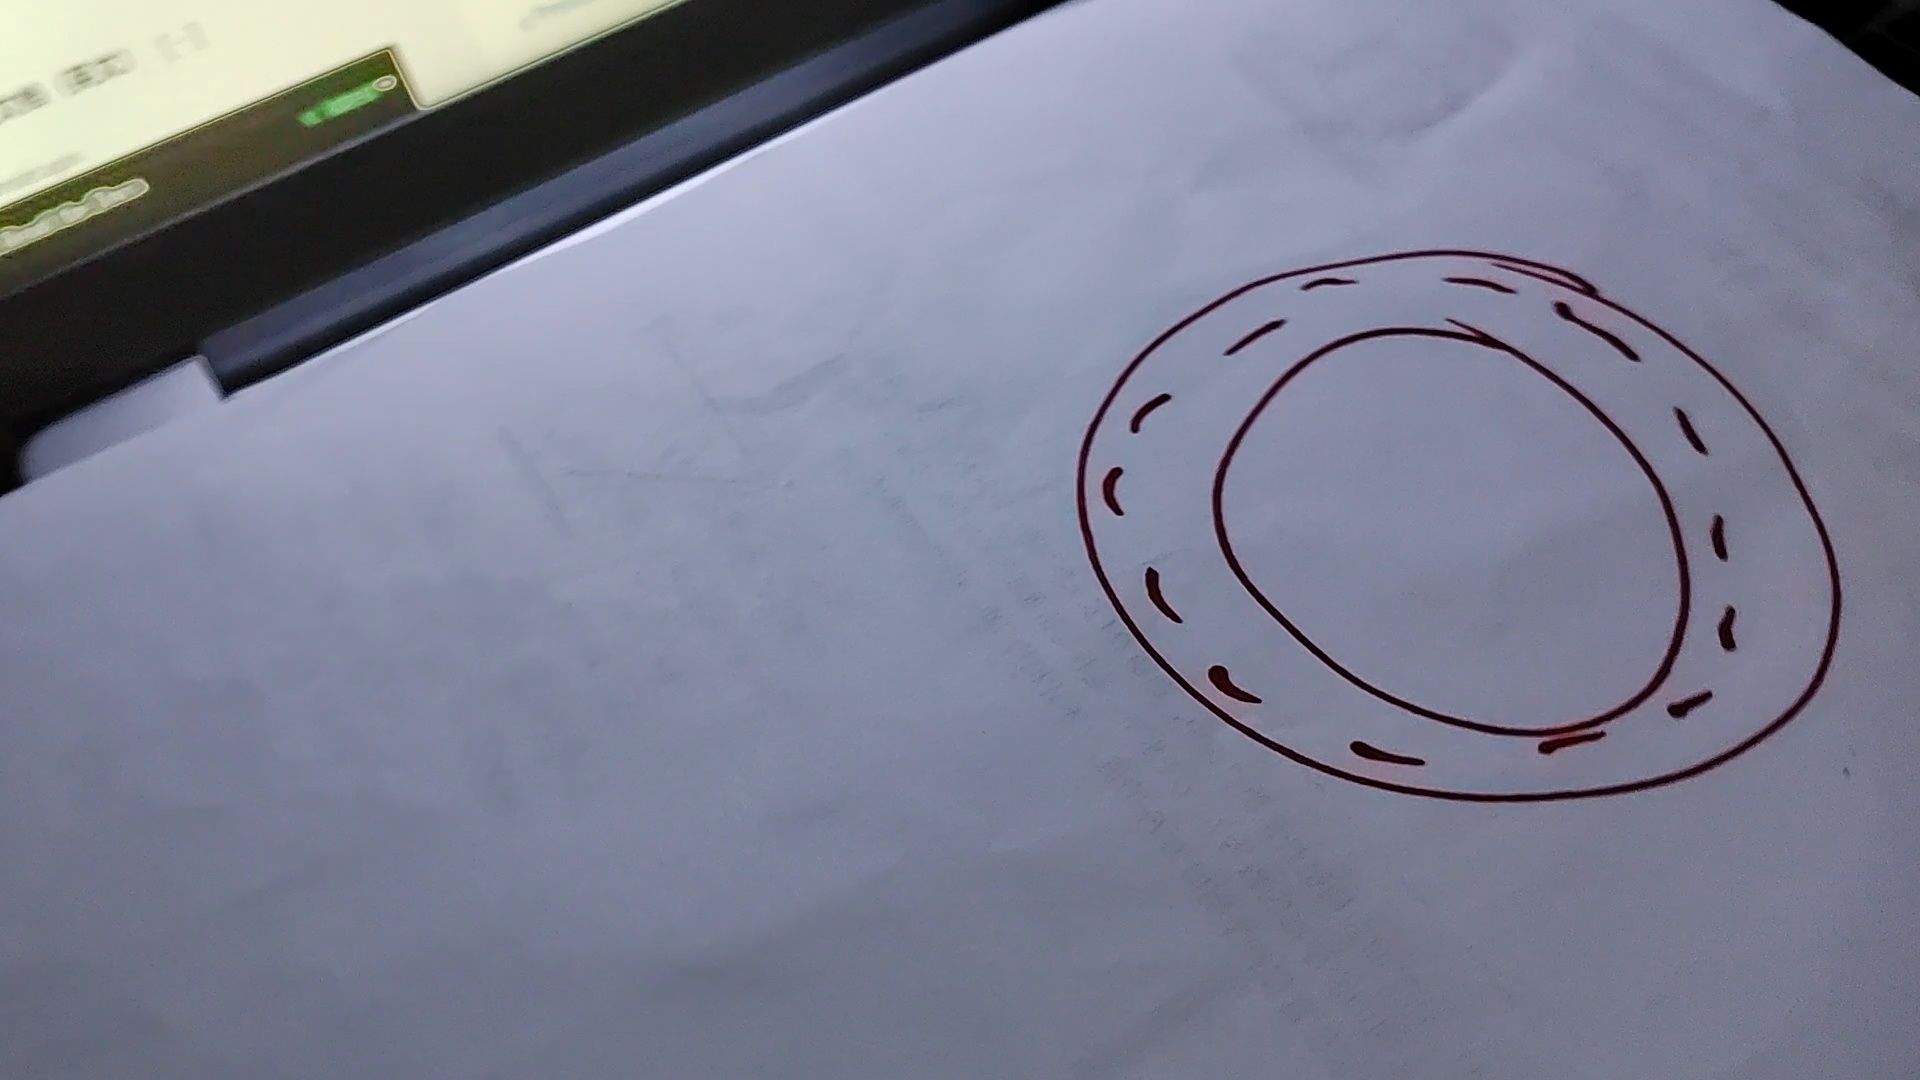circle: (1080, 248, 1850, 802)
